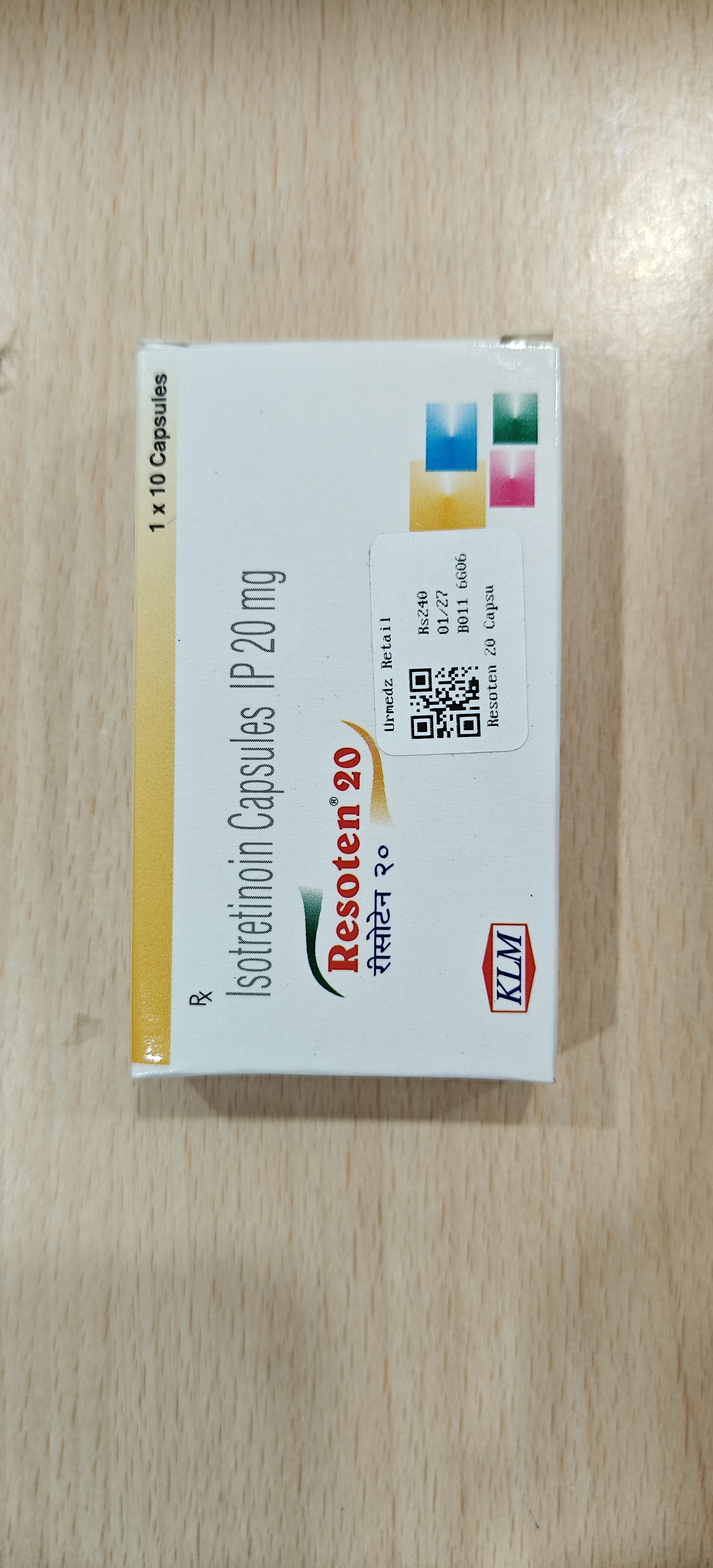qr_code: (408, 665, 480, 739)
